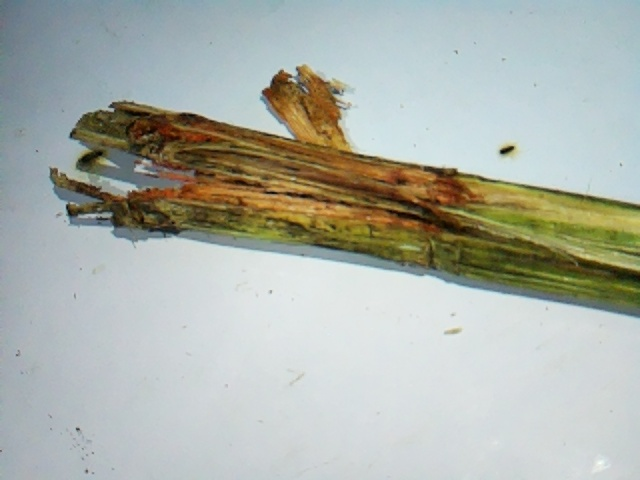Red-Rot: (45, 61, 498, 289)
